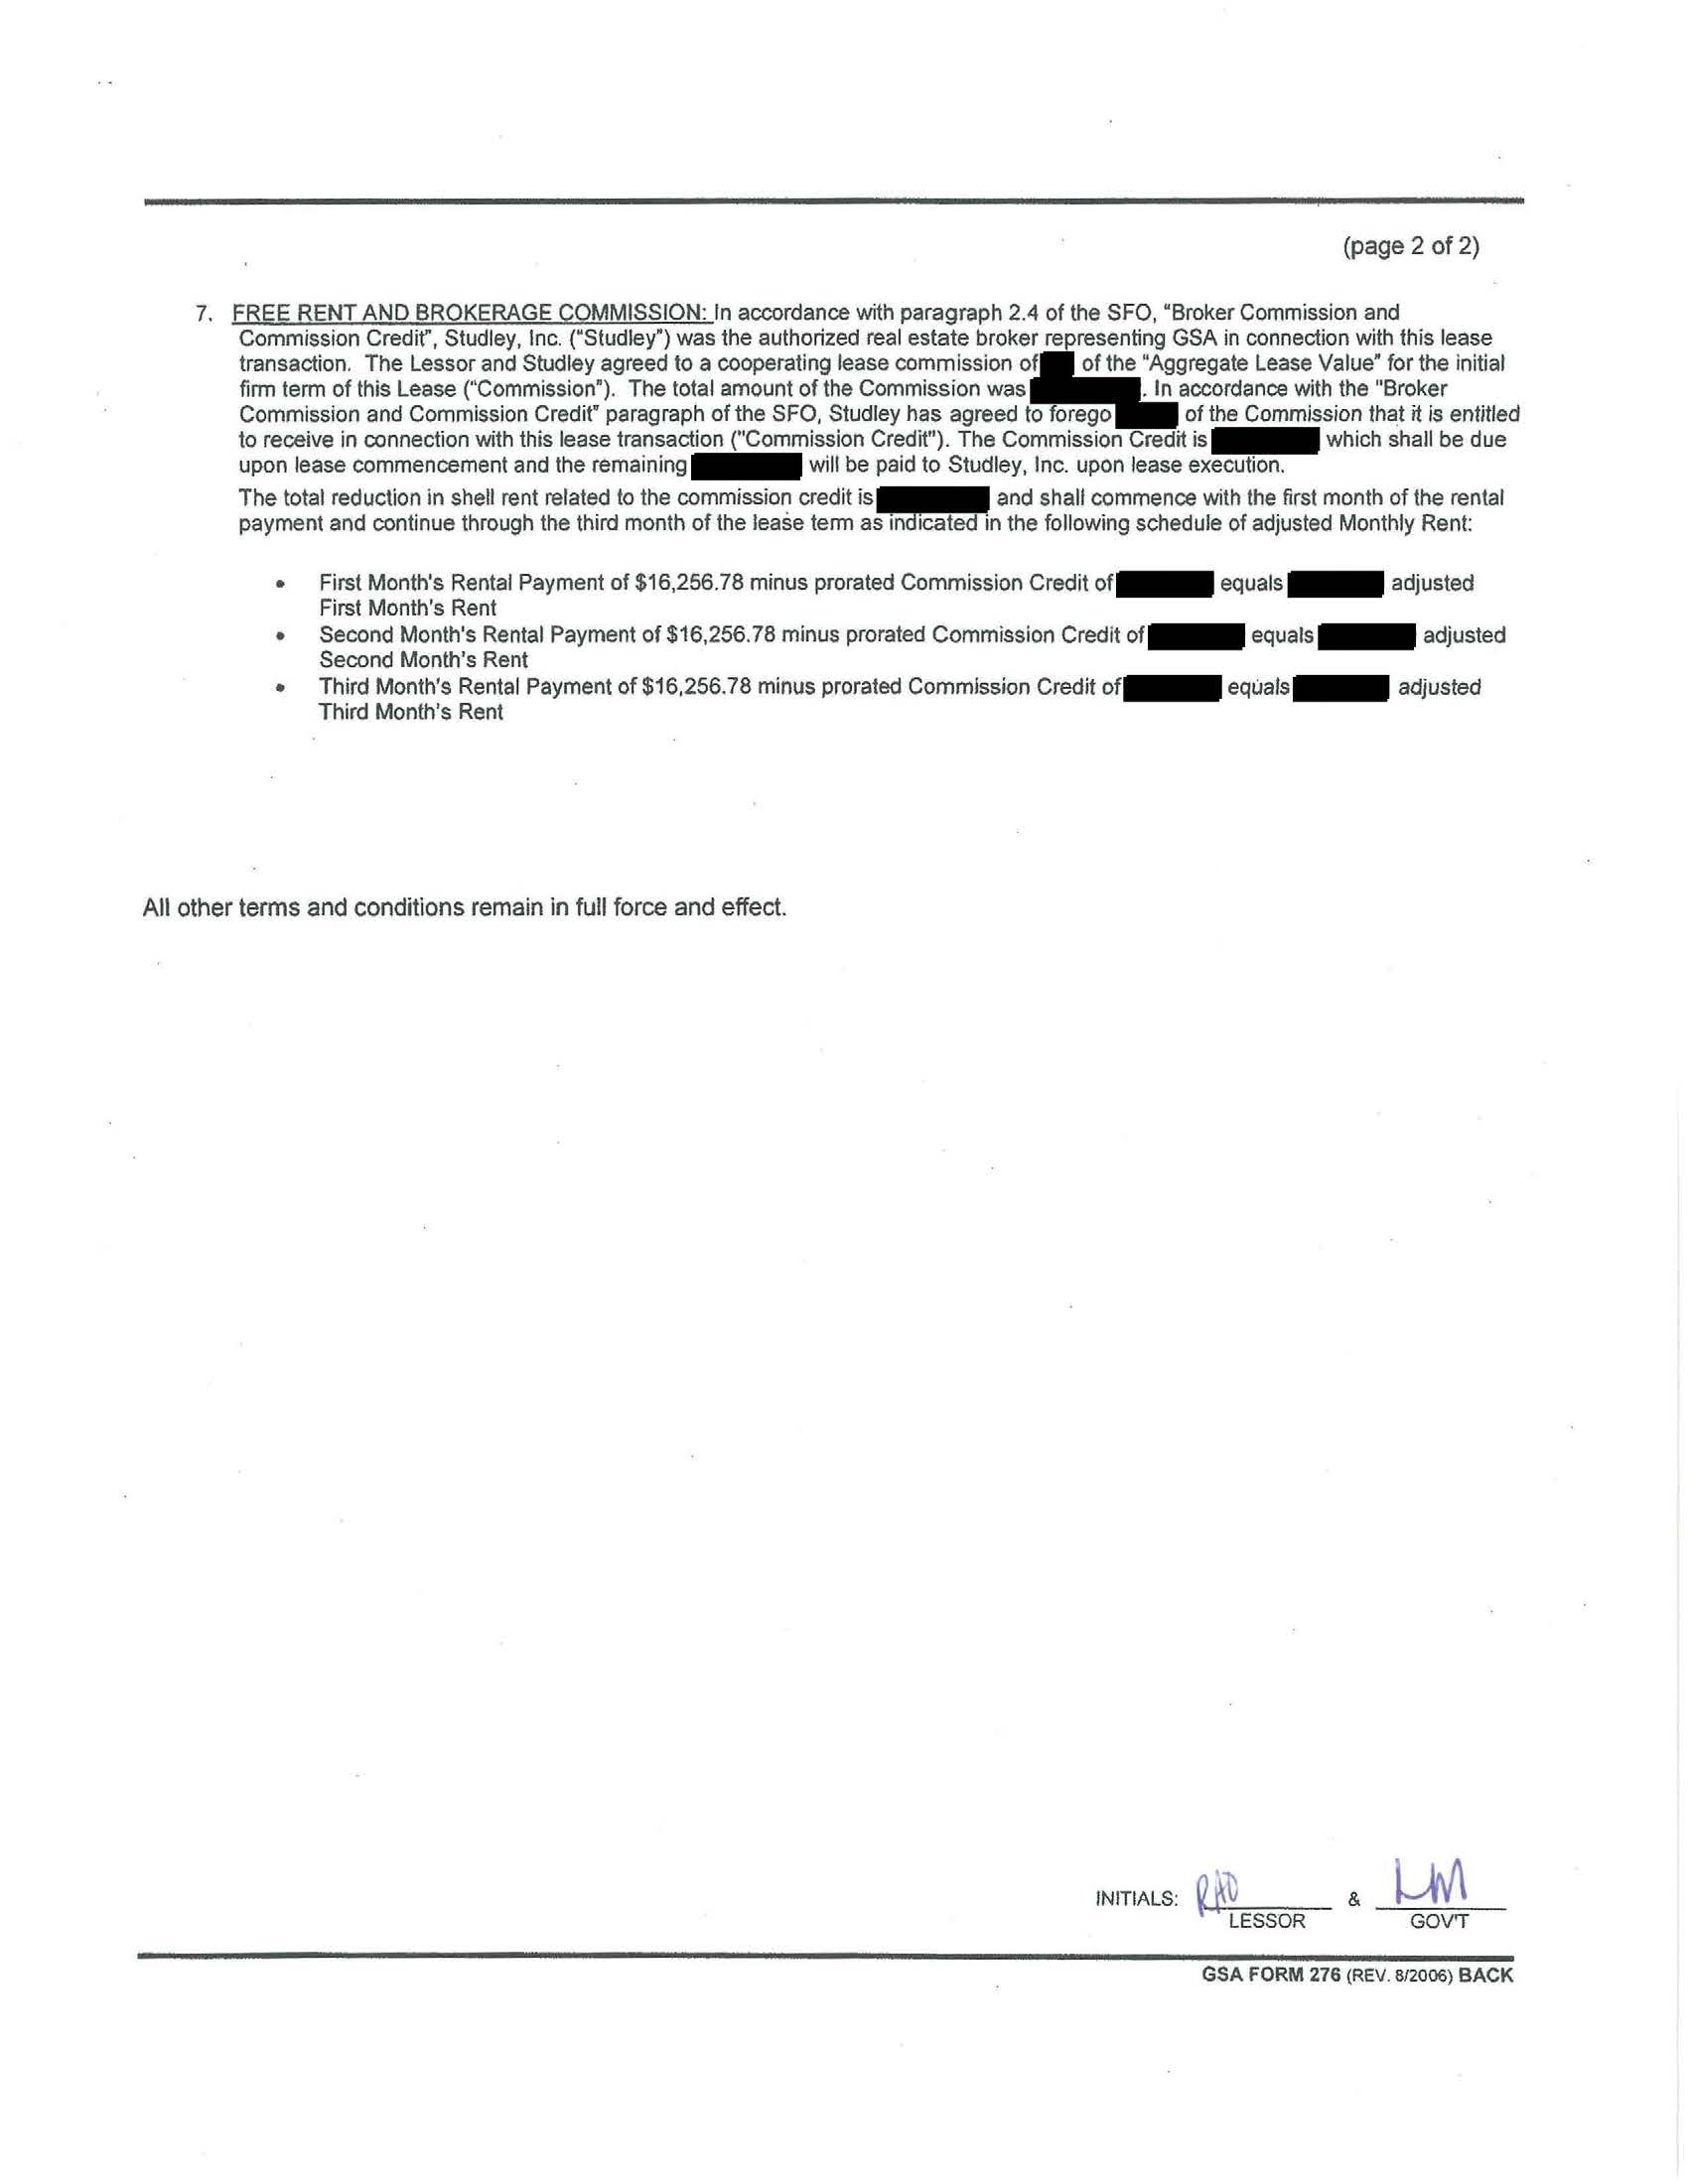handwritten: (1387, 1826, 1488, 1899), (1184, 1840, 1268, 1916)
